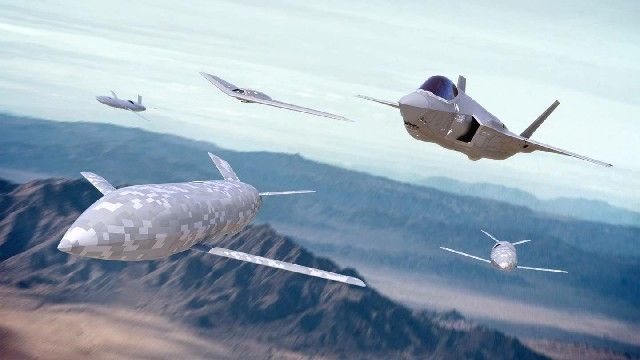maybay_khongnguoilai: (43, 157, 366, 293), (352, 67, 611, 168), (200, 67, 348, 129), (445, 226, 562, 276), (90, 87, 148, 120)
